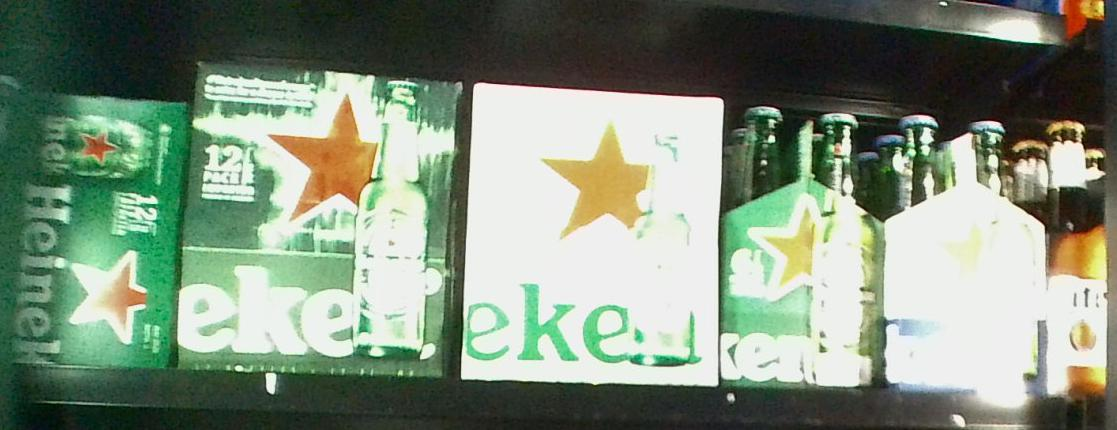bottle: (193, 59, 464, 383), (467, 79, 718, 387), (1, 95, 182, 370), (725, 97, 885, 390), (886, 108, 1044, 389)
